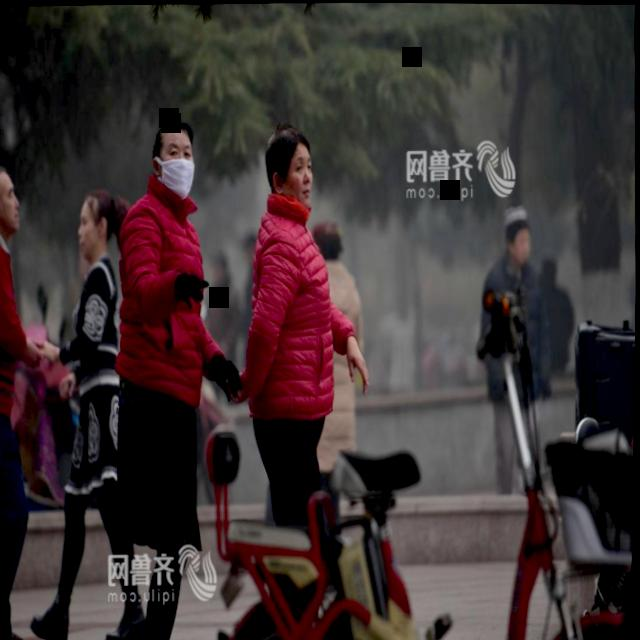Mask: (148, 114, 201, 202)
NO-Mask: (264, 116, 321, 214), (75, 181, 120, 267), (0, 158, 27, 242), (505, 203, 535, 266)
